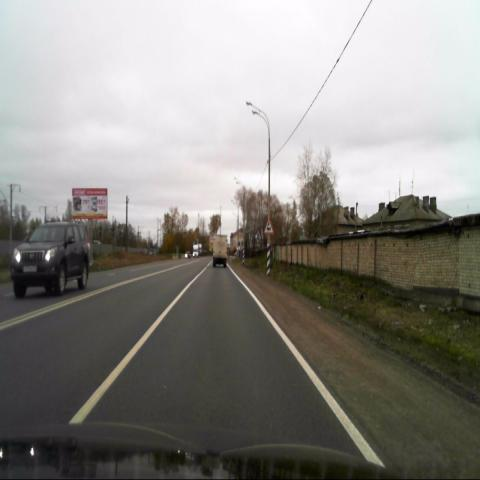1_2: (264, 217, 274, 235)
